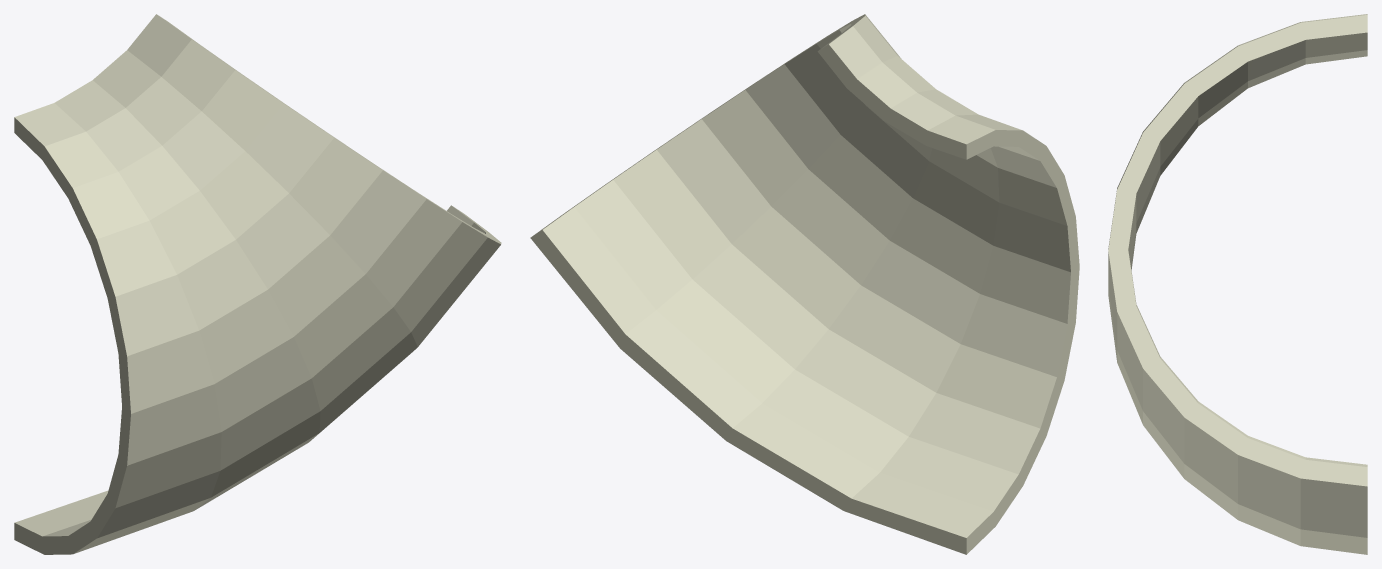
File: section_035.obj
3 renders of one model, left to right at view 1: azimuth 30°, elevation 25°; view 2: azimuth 150°, elevation 25°; view 3: azimuth 270°, elevation 25°, orthographic. The views are drawn at different scales.
Bounding box in the file's own units: 28.91 × 30.21 × 13.
